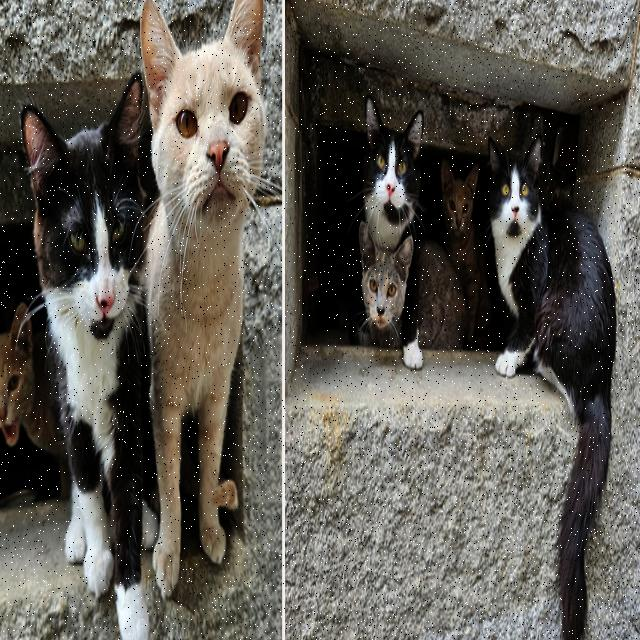cat: (21, 74, 159, 637), (141, 0, 265, 598), (489, 138, 616, 638), (0, 302, 71, 498), (364, 95, 424, 249), (441, 160, 491, 344), (355, 224, 412, 346), (414, 240, 468, 350), (401, 252, 422, 369)
